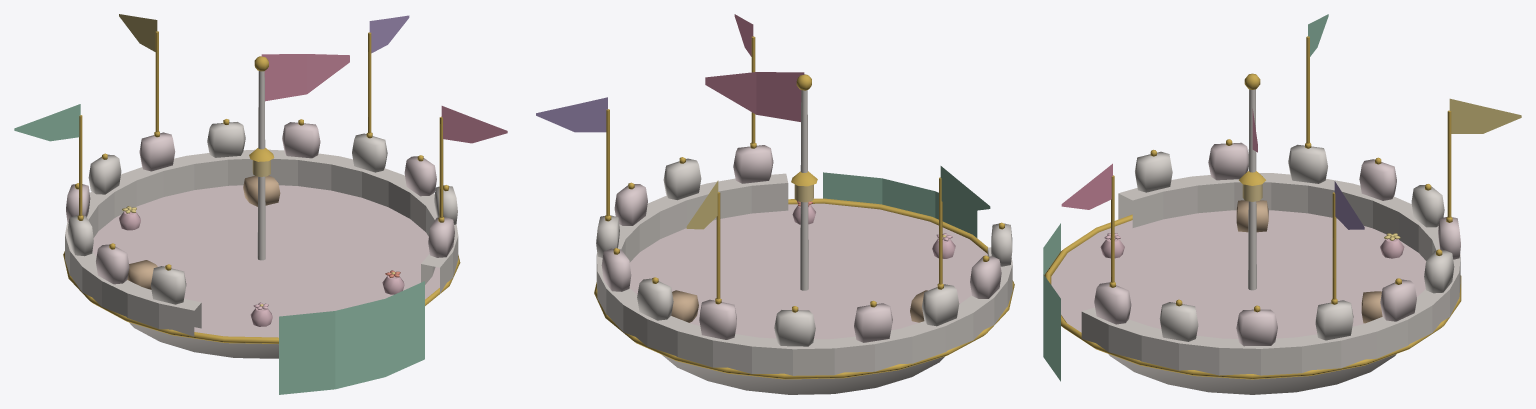
The model's file is watchtower_top.gltf.
3 renders of one model, left to right at view 1: azimuth 30°, elevation 25°; view 2: azimuth 150°, elevation 25°; view 3: azimuth 270°, elevation 25°, orthographic. The views are drawn at different scales.
Parts seen in each view (by area): view 1: watchtower_top, watchtower_top_climb; view 2: watchtower_top, watchtower_top_climb; view 3: watchtower_top, watchtower_top_climb.
Part boxes in pixels (<box>): watchtower_top: <box>14,14,507,358</box>; watchtower_top_climb: <box>279,281,424,394</box>; watchtower_top: <box>536,14,1014,394</box>; watchtower_top_climb: <box>823,172,977,237</box>; watchtower_top: <box>1044,14,1521,394</box>; watchtower_top_climb: <box>1043,223,1060,381</box>.
Size of what is drawn, in the model's own units: 9.07 by 5.4 by 8.6.
